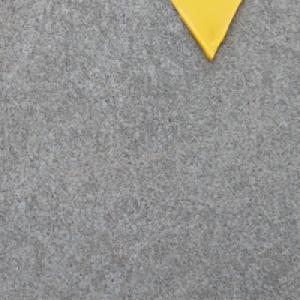PlasticPart: (166, 0, 241, 61)
